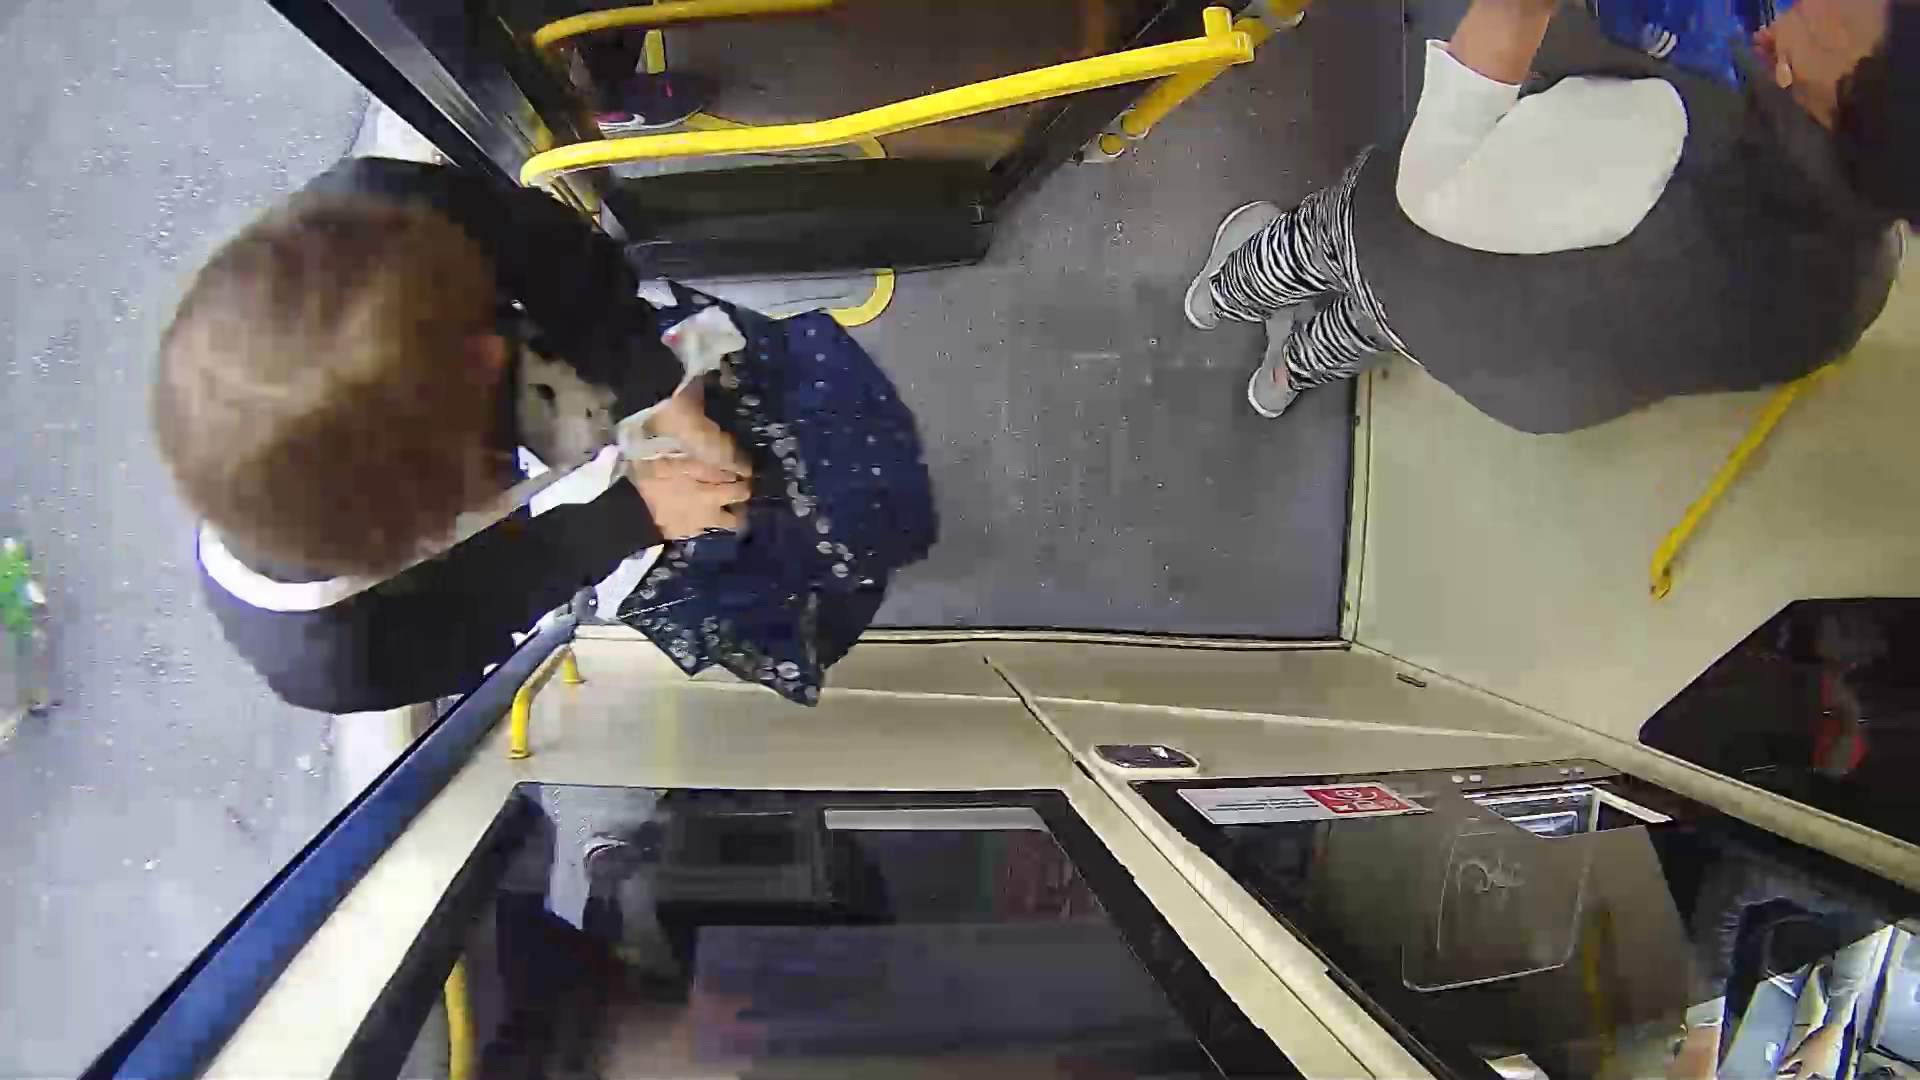person: (138, 164, 933, 769), (1220, 1, 1880, 410)
